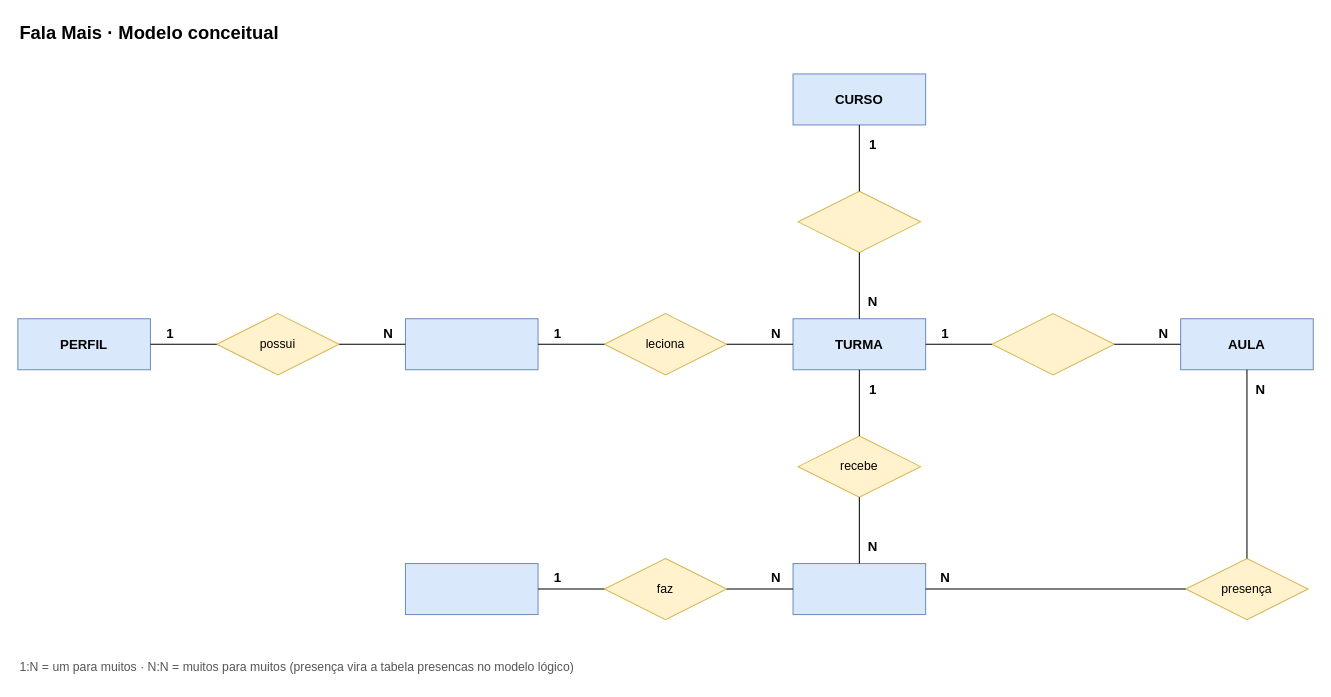
This 1331x697 diagram has some shape labels left out. The centre of each missing label's shape, as x and y in pixels:
"ALUNO" goes at point 471,589.
"MATRICULA" goes at point 859,589.
"oferece" goes at point 859,221.
"tem" goes at point 1052,344.
"USUARIO" goes at point 471,344.
